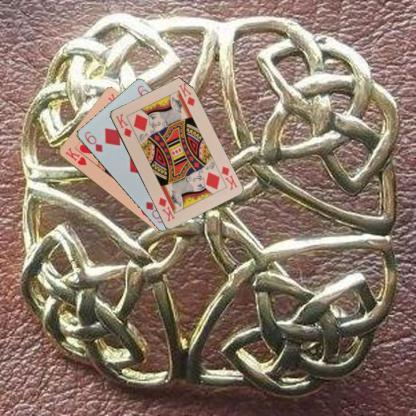6d: (82, 129, 103, 153)
Kd: (113, 111, 133, 139), (218, 164, 238, 192)
Kh: (62, 145, 88, 167)
